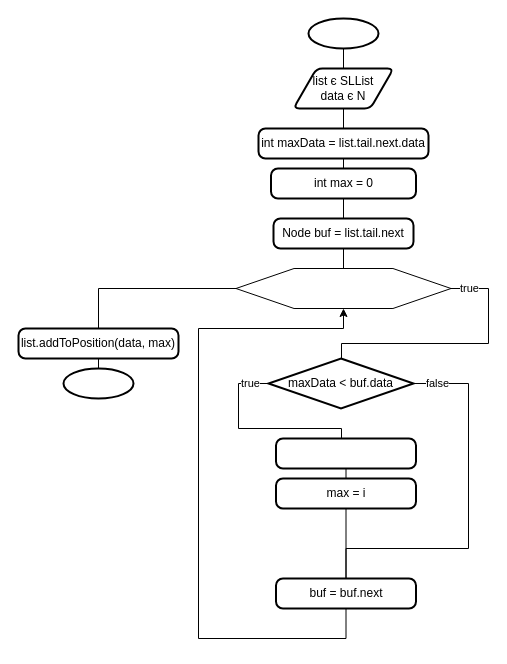
This 507x664 diagram has some shape labels left out. The box of each missing label's shape, as (x1, y1, x2, y2) in pixels:
end: (62, 367, 134, 399)
i =0; buf != list.tail.next || i=0; i++: (235, 268, 451, 308)
maxData = buf.data: (274, 437, 416, 469)
start: (307, 17, 379, 49)
